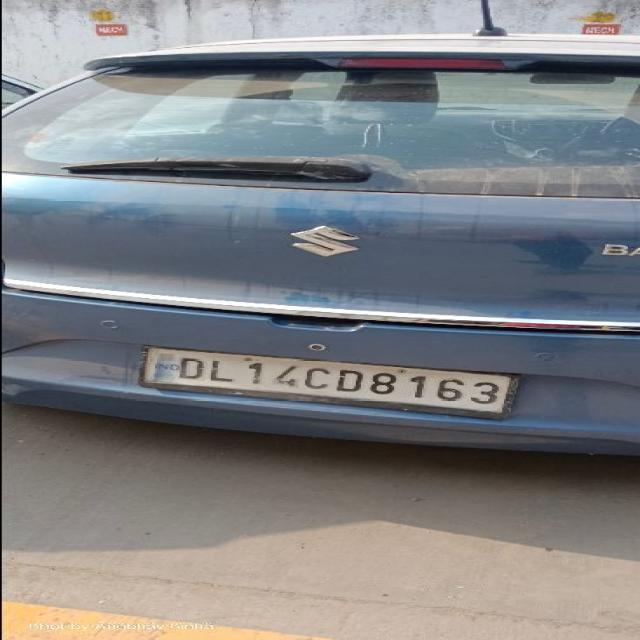license_plate: (136, 344, 521, 420)
